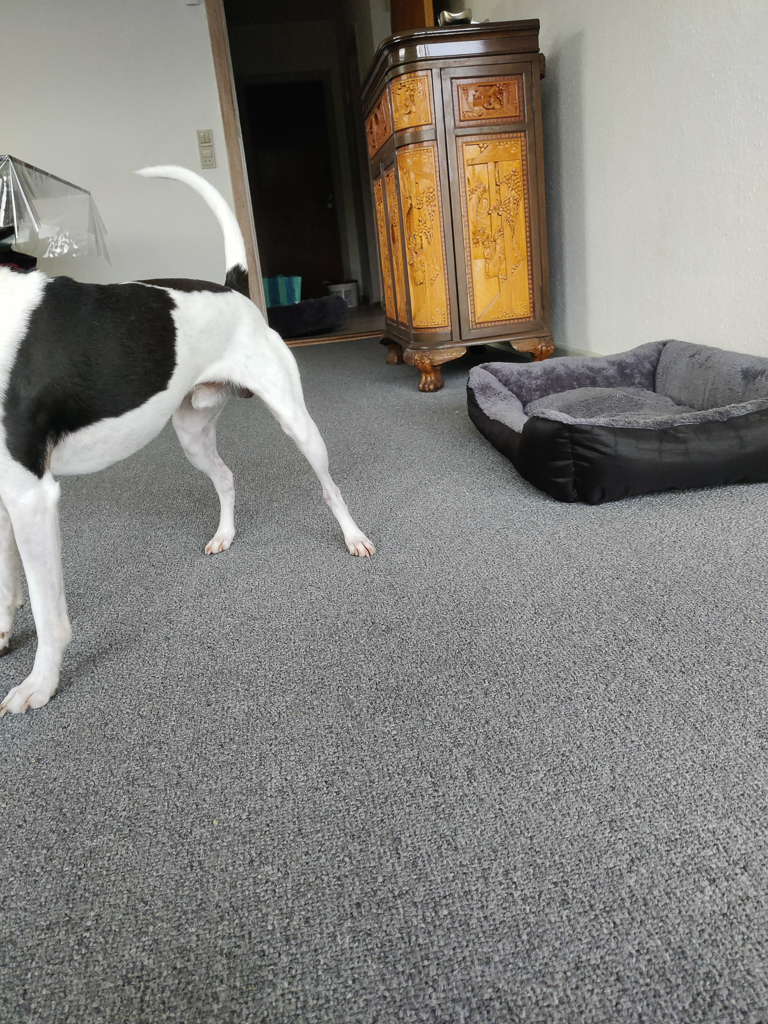Dog: (0, 147, 394, 725)
